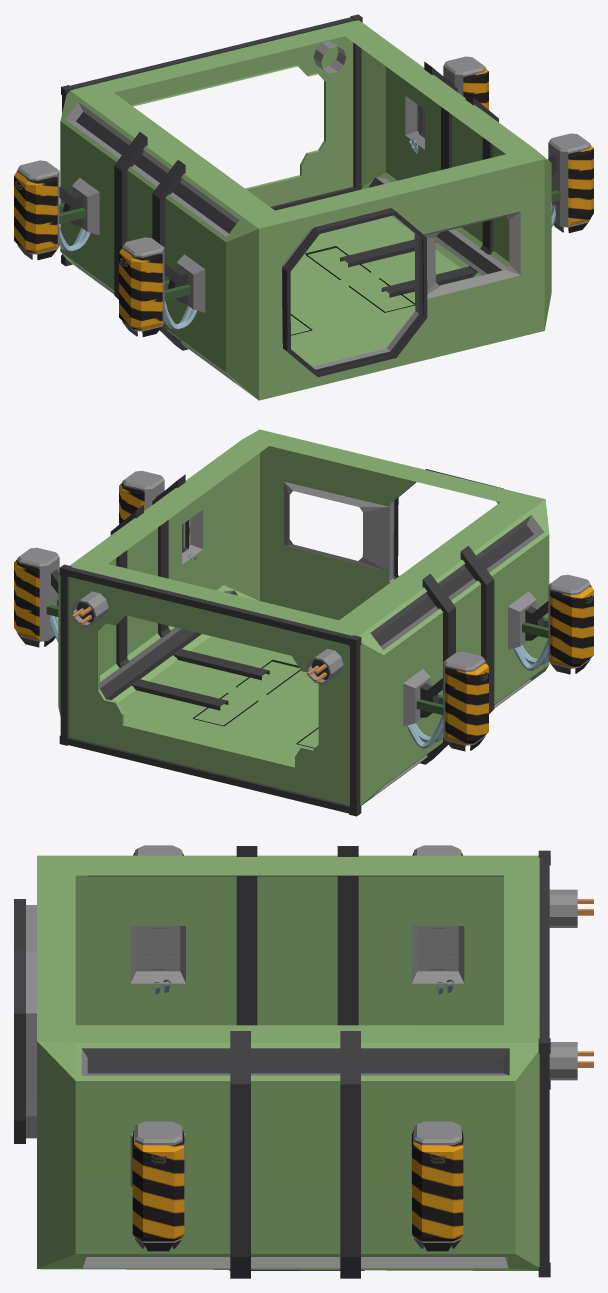
File: pod_base.fbx
3 views of the same model, one above another, from view 1: azimuth 30°, elevation 25°; view 2: azimuth 150°, elevation 25°; view 3: azimuth 270°, elevation 25° (orthographic). The views are drawn at different scales.
Visible parts, largest first — view 1: pPlane3, pCube68, polySurface209, polySurface213, polySurface205, polySurface223, polySurface221, pCube58, pCube59, polySurface207, polySurface211, polySurface215 (+3 smaller); view 2: pPlane3, pCube68, polySurface209, polySurface213, pCube59, pCube58, polySurface207, polySurface219, polySurface217, polySurface205, polySurface211, polySurface215 (+4 smaller); view 3: pPlane3, pCube59, pCube58, polySurface221, polySurface217, pCube68, polySurface205, polySurface207, polySurface223, polySurface219, pCube100, pCube72.
Part boxes in pixels (bbox=[...]): pPlane3: bbox=[60, 20, 551, 400]; pCube68: bbox=[61, 14, 362, 266]; polySurface209: bbox=[14, 171, 57, 253]; polySurface213: bbox=[119, 248, 162, 329]; polySurface205: bbox=[114, 132, 147, 299]; polySurface223: bbox=[548, 133, 590, 233]; polySurface221: bbox=[568, 145, 593, 225]; pCube58: bbox=[340, 61, 457, 267]; pCube59: bbox=[381, 92, 498, 297]; polySurface207: bbox=[152, 160, 188, 350]; polySurface211: bbox=[17, 160, 59, 260]; polySurface215: bbox=[122, 237, 164, 336]; pPlane3: bbox=[58, 429, 549, 805]; pCube68: bbox=[59, 564, 361, 816]; polySurface209: bbox=[445, 662, 488, 744]; polySurface213: bbox=[550, 585, 593, 667]; pCube59: bbox=[152, 474, 269, 680]; pCube58: bbox=[110, 505, 228, 710]; polySurface207: bbox=[460, 546, 494, 713]; polySurface219: bbox=[17, 547, 59, 647]; polySurface217: bbox=[14, 559, 39, 640]; polySurface205: bbox=[420, 573, 455, 764]; polySurface211: bbox=[443, 651, 485, 751]; polySurface215: bbox=[548, 574, 590, 674]; pPlane3: bbox=[14, 855, 539, 1270]; pCube59: bbox=[230, 1031, 250, 1278]; pCube58: bbox=[340, 1031, 360, 1278]; polySurface221: bbox=[132, 1129, 184, 1241]; polySurface217: bbox=[412, 1129, 463, 1241]; pCube68: bbox=[538, 850, 550, 1277]; polySurface205: bbox=[337, 846, 358, 1025]; polySurface207: bbox=[236, 846, 257, 1025]; polySurface223: bbox=[135, 1121, 182, 1251]; polySurface219: bbox=[414, 1121, 461, 1251]; pCube100: bbox=[549, 1042, 593, 1080]; pCube72: bbox=[549, 889, 593, 927].
Size of the model in its own units: 1527 by 665 by 1228.
